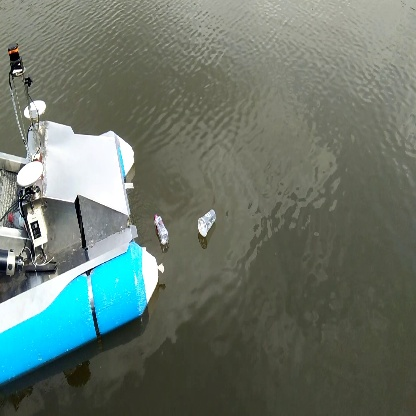bottle: (197, 209, 218, 241), (152, 213, 170, 248)
